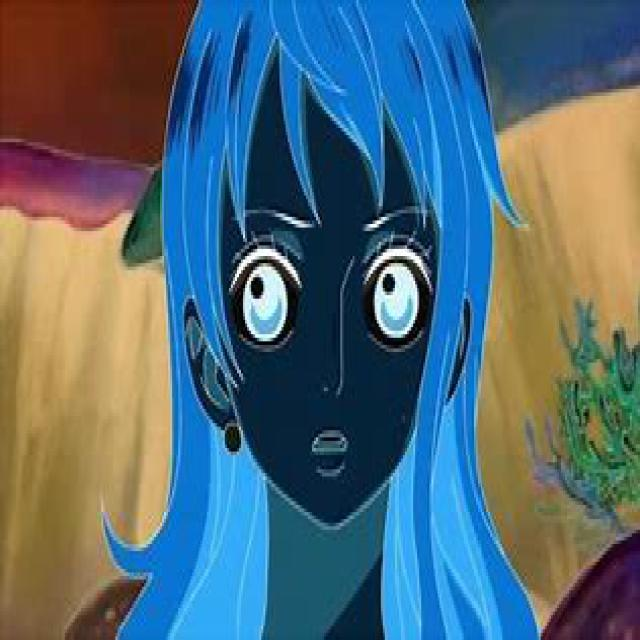Nami: (103, 0, 539, 640)
